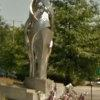Statue: (18, 2, 68, 93)
